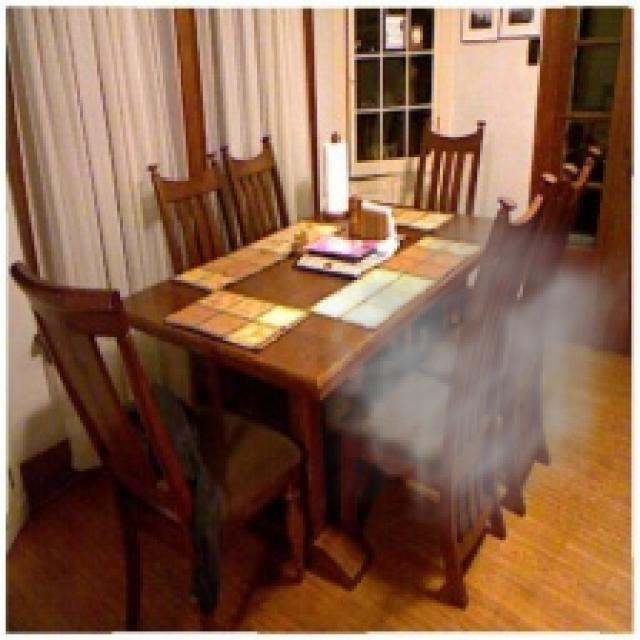Smoke: (286, 179, 628, 552)
